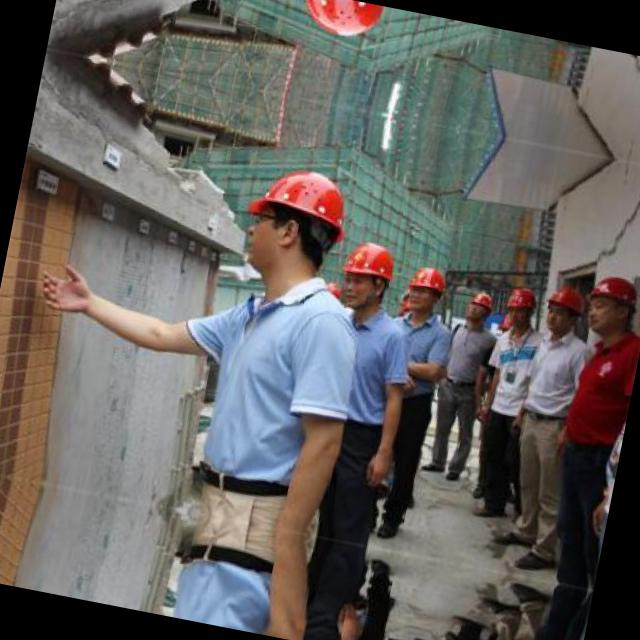helmet: (242, 158, 348, 286), (339, 237, 400, 315), (288, 0, 382, 47), (579, 266, 640, 335), (404, 262, 452, 322), (540, 280, 586, 336), (500, 282, 537, 331), (462, 286, 498, 328)
